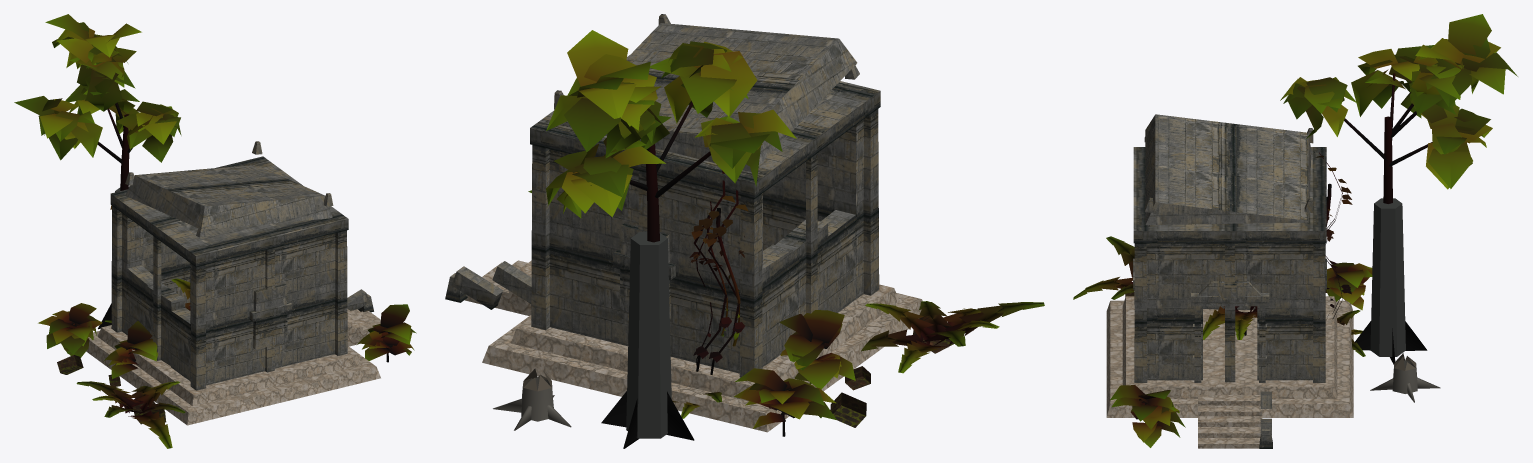
File: prasat_ruin_01.glb
The picture shows the model from 3 angles, left to right: view 1: azimuth 30°, elevation 25°; view 2: azimuth 150°, elevation 25°; view 3: azimuth 270°, elevation 25°; orthographic projection. The views are drawn at different scales.
Parts seen in each view (by area): view 1: prasat_ruin_01, prasat_ruin_01_veg_00_broadleaf_a, prasat_ruin_01_veg_09_fern_c, prasat_ruin_01_veg_10_bush_c, prasat_ruin_01_veg_11_bush_b, prasat_ruin_01_veg_07_bush_b; view 2: prasat_ruin_01, prasat_ruin_01_veg_00_broadleaf_a, prasat_ruin_01-col, prasat_ruin_01_veg_09_fern_c, prasat_ruin_01_veg_07_bush_b, prasat_ruin_01_veg_10_bush_c, prasat_ruin_01_veg_14_tree_stump, prasat_ruin_01_veg_04_trunk_vine_a, prasat_ruin_01_veg_03_trunk_vine_a; view 3: prasat_ruin_01, prasat_ruin_01_veg_00_broadleaf_a, prasat_ruin_01-col, prasat_ruin_01_veg_11_bush_b, prasat_ruin_01_veg_10_bush_c, prasat_ruin_01_veg_14_tree_stump, prasat_ruin_01_veg_09_fern_c, prasat_ruin_01_veg_13_palm_sapling_b.
Boxes of the visible parts, <box> form: prasat_ruin_01: <box>57,141,380,425</box>; prasat_ruin_01_veg_00_broadleaf_a: <box>14,14,181,329</box>; prasat_ruin_01_veg_09_fern_c: <box>76,381,185,448</box>; prasat_ruin_01_veg_10_bush_c: <box>38,303,102,357</box>; prasat_ruin_01_veg_11_bush_b: <box>357,304,416,362</box>; prasat_ruin_01_veg_07_bush_b: <box>103,321,157,378</box>; prasat_ruin_01: <box>445,14,954,432</box>; prasat_ruin_01_veg_00_broadleaf_a: <box>546,30,796,448</box>; prasat_ruin_01-col: <box>626,231,671,438</box>; prasat_ruin_01_veg_09_fern_c: <box>861,301,1044,373</box>; prasat_ruin_01_veg_07_bush_b: <box>779,310,855,389</box>; prasat_ruin_01_veg_10_bush_c: <box>733,368,836,436</box>; prasat_ruin_01_veg_14_tree_stump: <box>493,368,571,430</box>; prasat_ruin_01_veg_04_trunk_vine_a: <box>689,170,735,371</box>; prasat_ruin_01_veg_03_trunk_vine_a: <box>704,190,748,374</box>; prasat_ruin_01: <box>1106,114,1353,448</box>; prasat_ruin_01_veg_00_broadleaf_a: <box>1280,14,1517,364</box>; prasat_ruin_01-col: <box>1370,198,1405,356</box>; prasat_ruin_01_veg_11_bush_b: <box>1110,385,1185,447</box>; prasat_ruin_01_veg_10_bush_c: <box>1325,262,1372,310</box>; prasat_ruin_01_veg_14_tree_stump: <box>1370,353,1440,402</box>; prasat_ruin_01_veg_09_fern_c: <box>1073,236,1134,299</box>; prasat_ruin_01_veg_13_palm_sapling_b: <box>1203,306,1257,339</box>.
Size of the model in its own units: 10.89 by 8.7 by 11.09.
15 materials, 15 textured.
